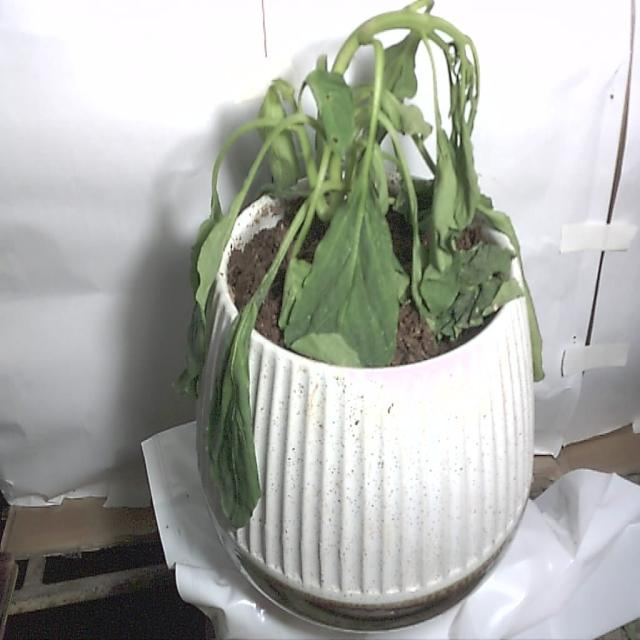Leaf: (283, 187, 400, 364), (207, 328, 262, 524)
